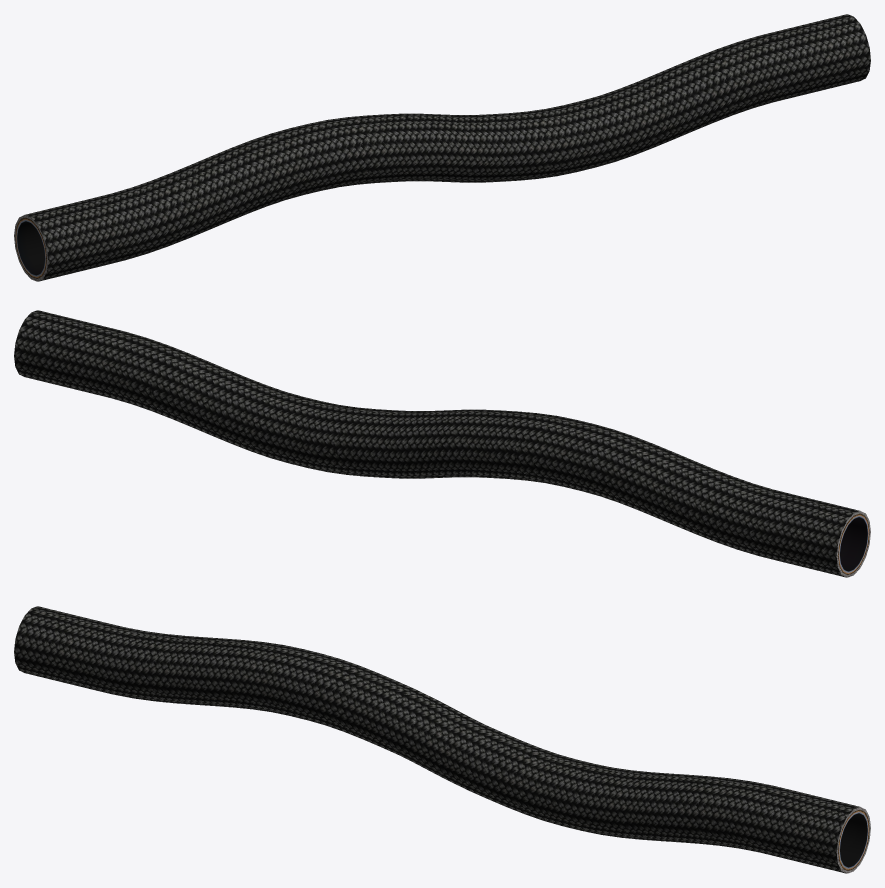
3 views of the same model, one above another, from view 1: azimuth 30°, elevation 25°; view 2: azimuth 150°, elevation 25°; view 3: azimuth 330°, elevation 25° (orthographic).
Visible parts, largest first — view 1: Polymer Braid-20; view 2: Polymer Braid-20; view 3: Polymer Braid-20.
Boxes of the visible parts, x1,y1,x2,y2 form: Polymer Braid-20: (14,14,870,281); Polymer Braid-20: (14,310,870,577); Polymer Braid-20: (14,606,870,873).
Bounding box in the file's own units: 0.5 × 0.0615 × 0.0361.
2 materials, 2 textured.
